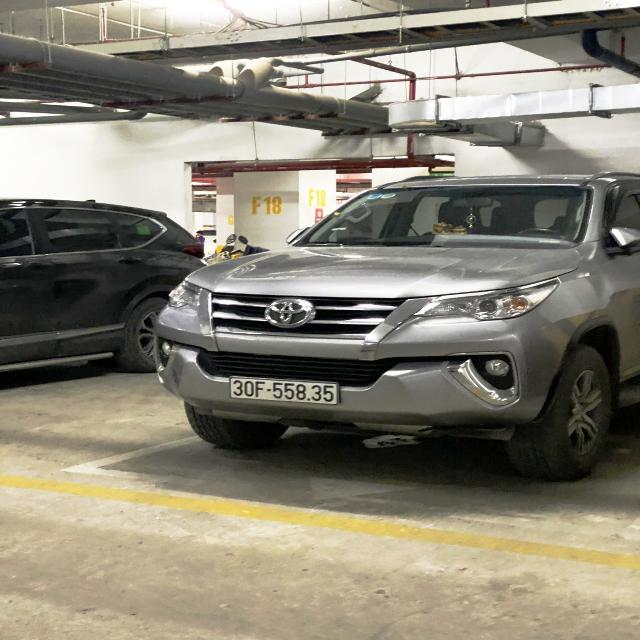license_plate: (225, 377, 344, 409)
